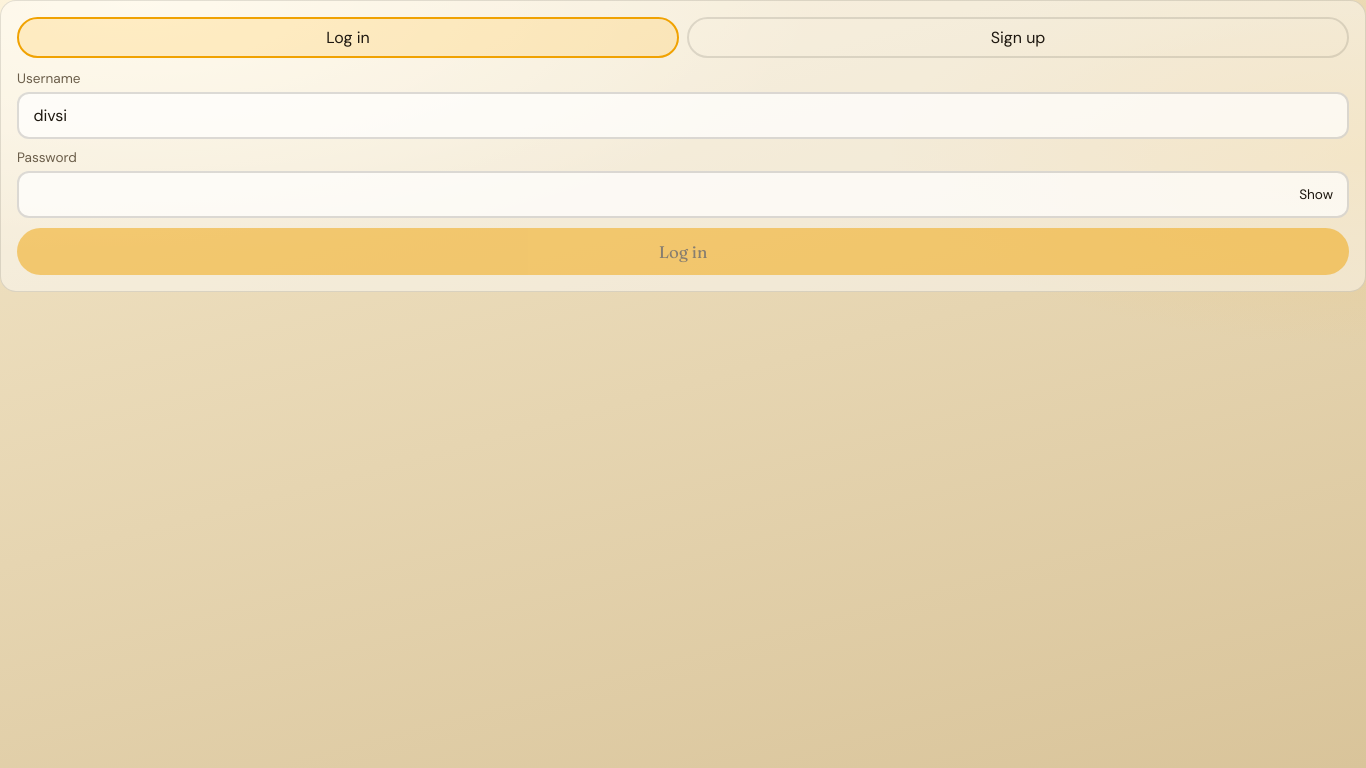
Test: AuthPanel › shows the server's error message on a failed login
The width and height of the screenshot is (1366, 768).
Step 1. Type "nope" into the password field labelled "Password" → (683, 194), box [17,171,1349,218]
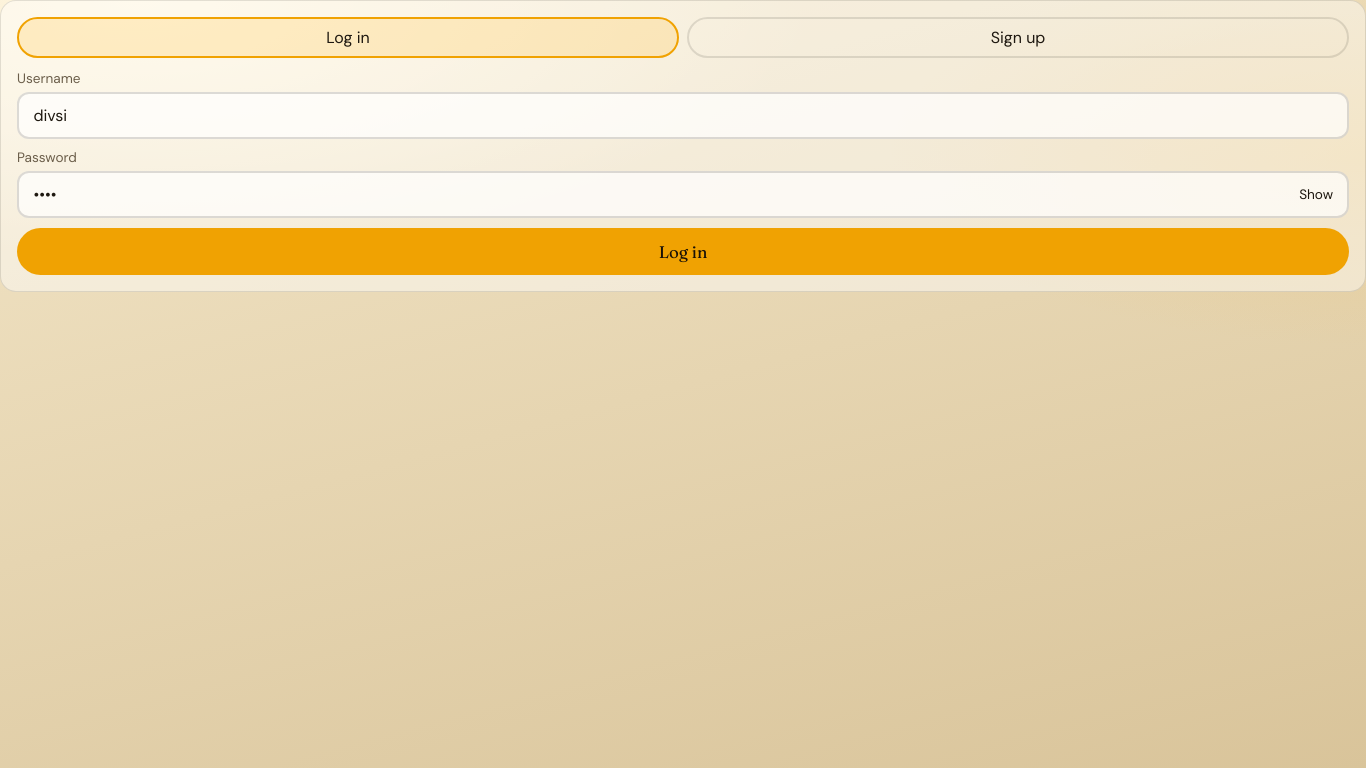
Step 2. Click the button "Log in" → (683, 251), box [17,228,1349,275]
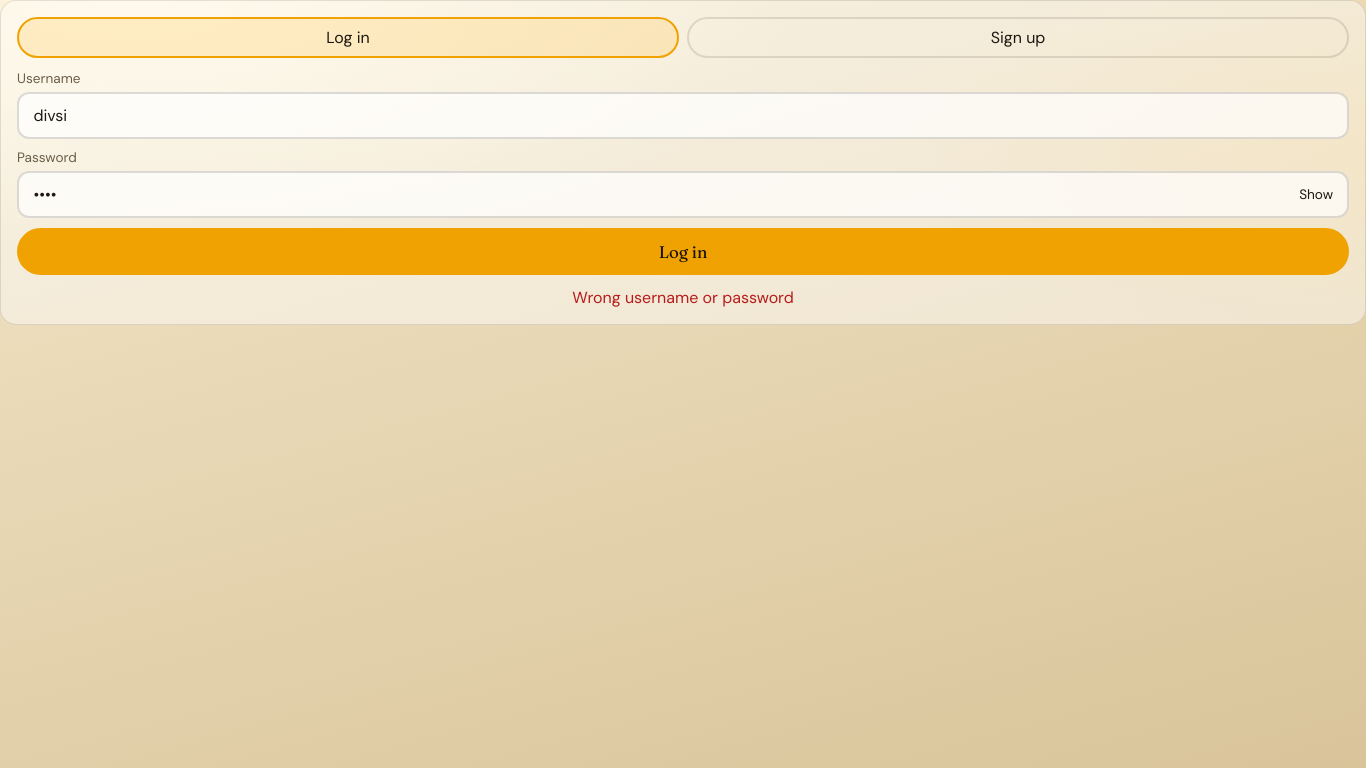
expect the message reads "Wrong username or password": met, box [572,287,794,308]
